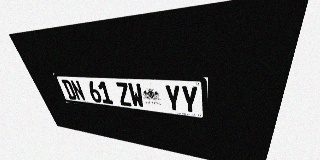1: (96, 81, 113, 104)
6: (86, 81, 103, 103)
D: (61, 80, 78, 100)
N: (69, 80, 86, 101)
W: (127, 83, 145, 108)
Y: (180, 85, 198, 114), (164, 84, 182, 112)
Z: (115, 82, 132, 107)
